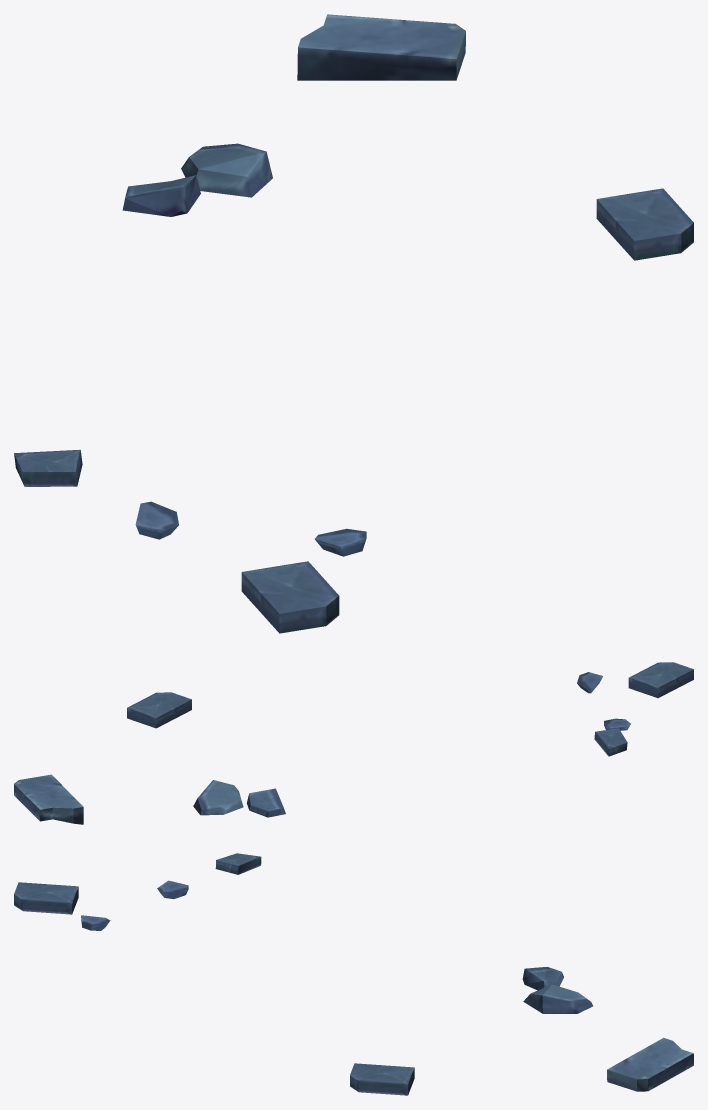
File: Area03_5.fbx
3 renders of one model, top to bottom at view 1: azimuth 30°, elevation 25°; view 2: azimuth 150°, elevation 25°; view 3: azimuth 270°, elevation 25°, orthographic. The views are drawn at different scales.
Parts seen in each view (by area): view 1: Area03_5; view 2: Area03_5; view 3: Area03_5.
Part boxes in pixels (left/top/right/bottom): Area03_5: left=14, top=14, right=693, bottom=633; Area03_5: left=14, top=662, right=693, bottom=824; Area03_5: left=14, top=853, right=693, bottom=1095.
Bounding box in the file's own units: 1721 × 96.12 × 2233.
1 material, 1 textured.
